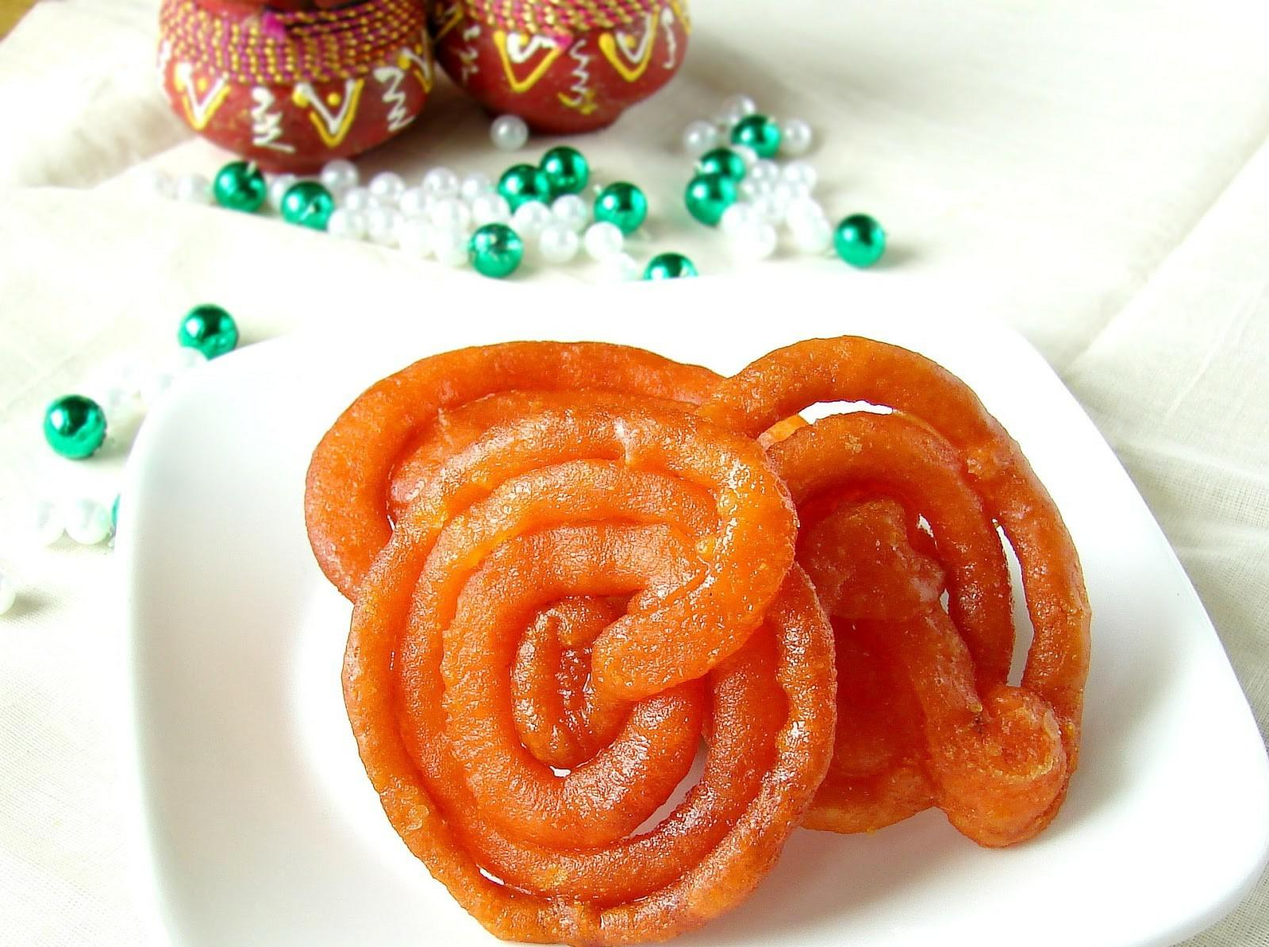Jalebi: (300, 334, 1096, 947)
